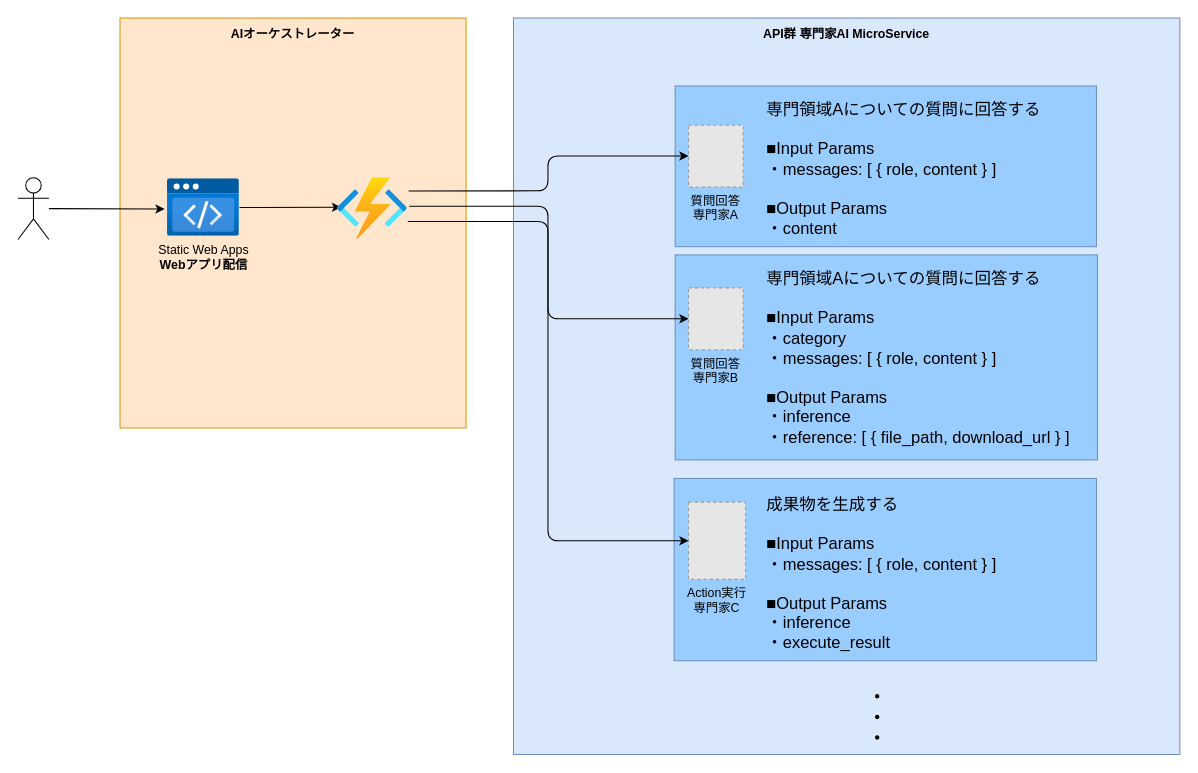
The diagram is 1198 pixels wide and 773 high, and some of its shapes have lost their labels. Grey dashed boxes stand in for pictures. The shapes that lost their labels are listed below. From the top down, each one's centre as x and y in pixels, then its label:
At (x=33, y=208): "User".
At (x=372, y=208): "Durable Functions AIオーケストレーション".
